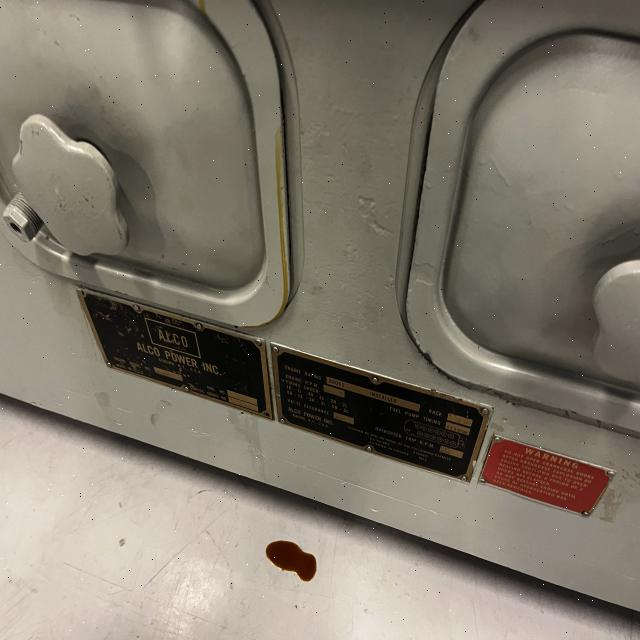Oil Leak: (273, 119, 290, 320), (266, 541, 316, 581), (189, 0, 207, 14)
